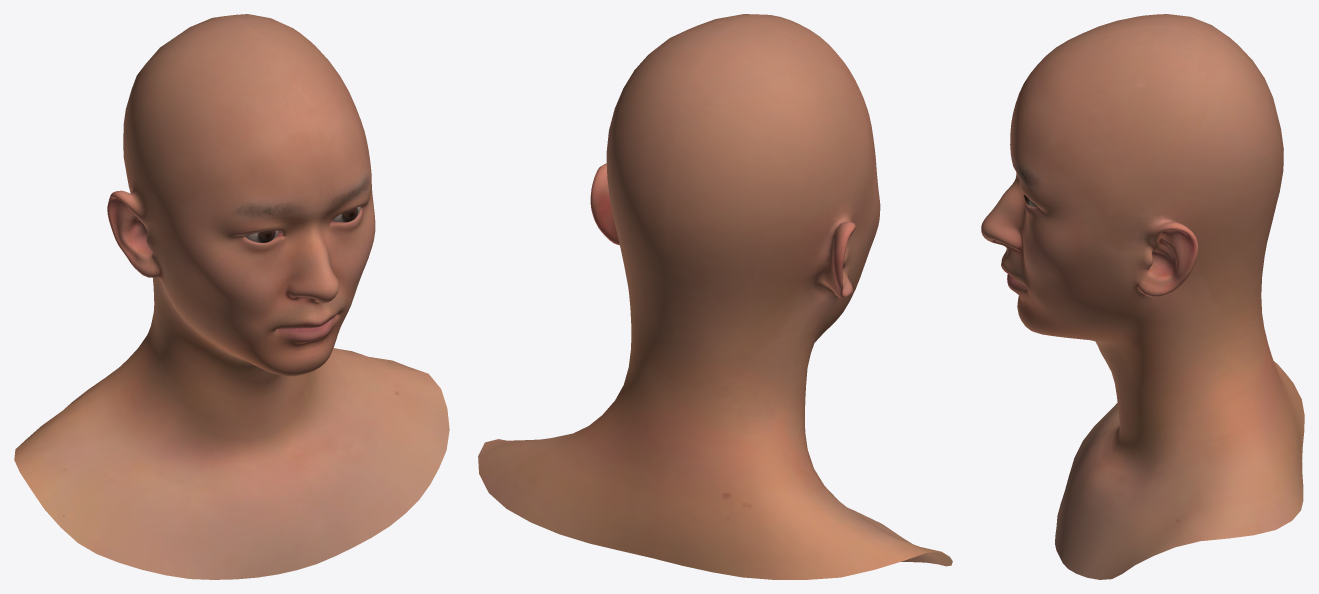
Rendered from 真人头像_男_光头亚裔侧脸01_opt.glb.
3 renders of one model, left to right at view 1: azimuth 30°, elevation 25°; view 2: azimuth 150°, elevation 25°; view 3: azimuth 270°, elevation 25°, orthographic. The views are drawn at different scales.
Visible parts, largest first — view 1: _headinitialShadingGroup; view 2: _headinitialShadingGroup; view 3: _headinitialShadingGroup.
Boxes of the visible parts, left/top/right/bottom form: _headinitialShadingGroup: left=14, top=14, right=449, bottom=579; _headinitialShadingGroup: left=478, top=14, right=952, bottom=579; _headinitialShadingGroup: left=981, top=14, right=1304, bottom=579.
Bounding box in the file's own units: 0.2529 × 0.3 × 0.1728.
1 material, 1 textured.
